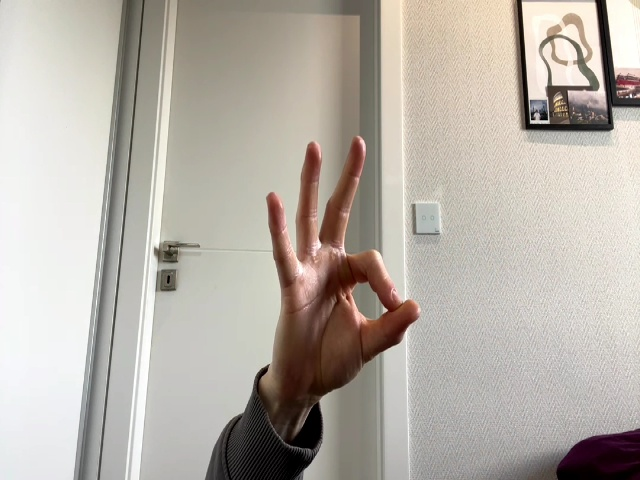O: (266, 135, 421, 392)
